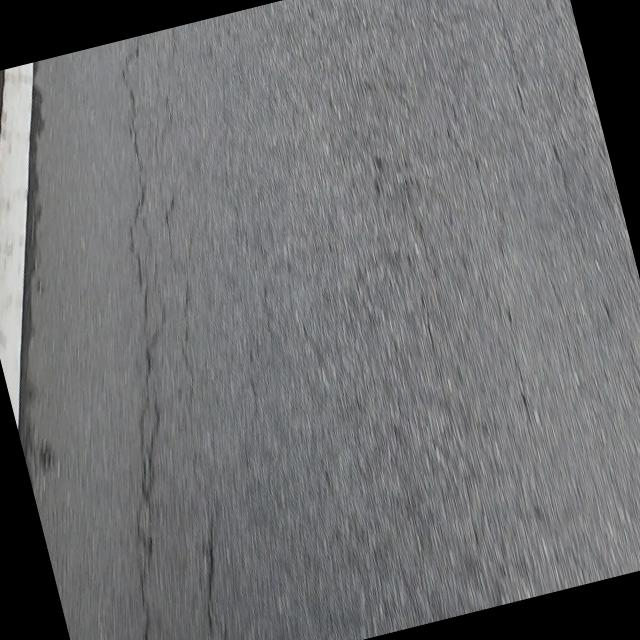Retak-Memanjang: (134, 273, 160, 640), (120, 39, 148, 294), (206, 527, 214, 631)
